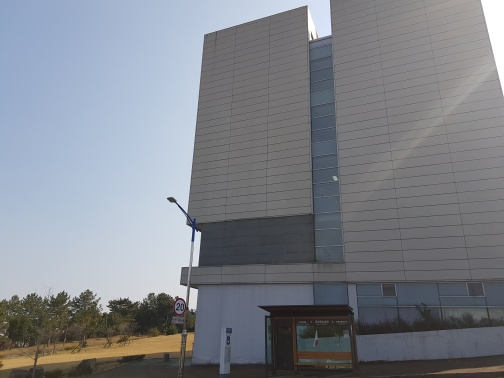Engineering College Building 4: (193, 22, 495, 353), (304, 9, 498, 350), (201, 23, 305, 353)
